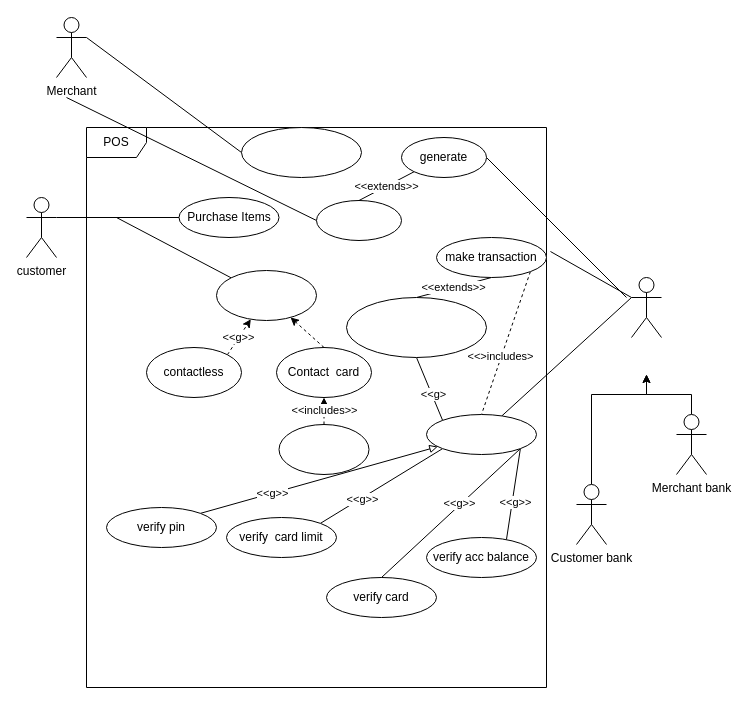
This 748x705 diagram has some shape labels left out. The shapes that lost their labels are listed below. From the top down, each one's centre as x and y in pixels, then its label:
the point at 301,152: Enter amount
the point at 359,220: issue receipt
the point at 266,295: Present bank card
the point at 646,307: bank
the point at 416,327: verify transaction successful
the point at 323,449: Enter Pin
the point at 481,434: verify transaction
